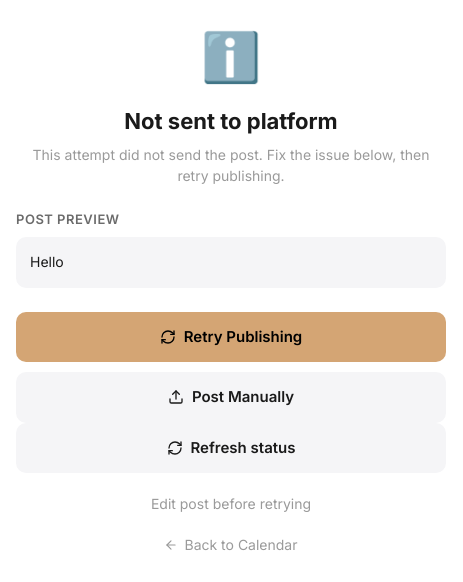
Test case: publishing recovery page › shows server conflict messages without claiming the retry was queued
Click the button "Retry Publishing": (231,337) [16,312,446,362]
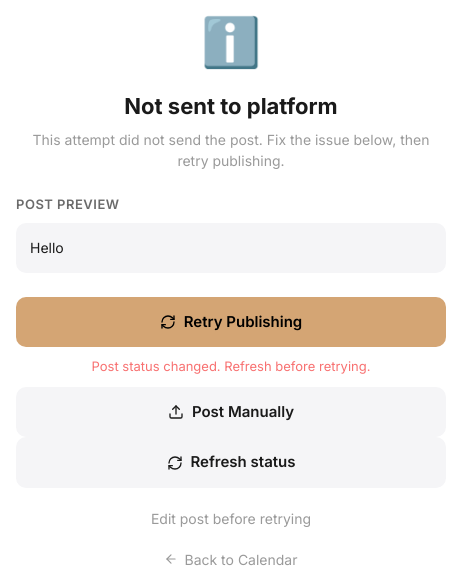
Expected: the text "Post status changed. Refresh before retrying." is shown, [92,358,370,374]
